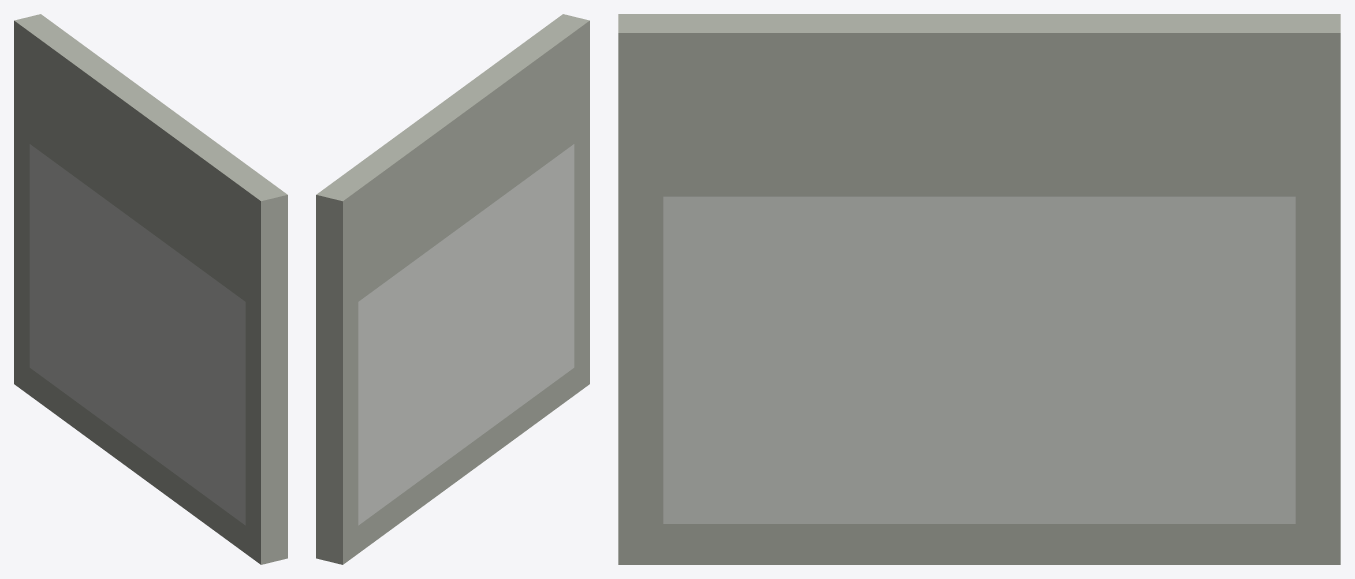
File: Microwave-0-huta.obj
3 renders of one model, left to right at view 1: azimuth 30°, elevation 25°; view 2: azimuth 150°, elevation 25°; view 3: azimuth 270°, elevation 25°, orthographic. The views are drawn at different scales.
Parts seen in each view (by area): view 1: huta; view 2: huta; view 3: huta.
Part boxes in pixels (x1,y1,x2,y2): huta: (14,14,287,564); huta: (316,14,589,564); huta: (618,14,1340,564).
Bounding box in the file's own units: 0.1 × 1.3 × 1.6.
1 material, 1 textured.
